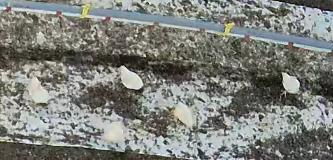chick: (27, 77, 51, 104), (118, 66, 144, 90), (174, 102, 193, 129), (281, 71, 301, 96), (102, 120, 124, 142)
